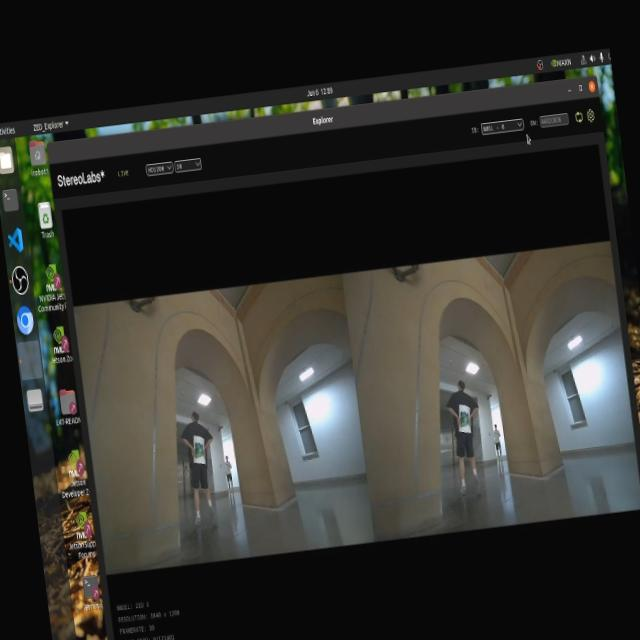green: (447, 405, 473, 436), (188, 437, 205, 460)
